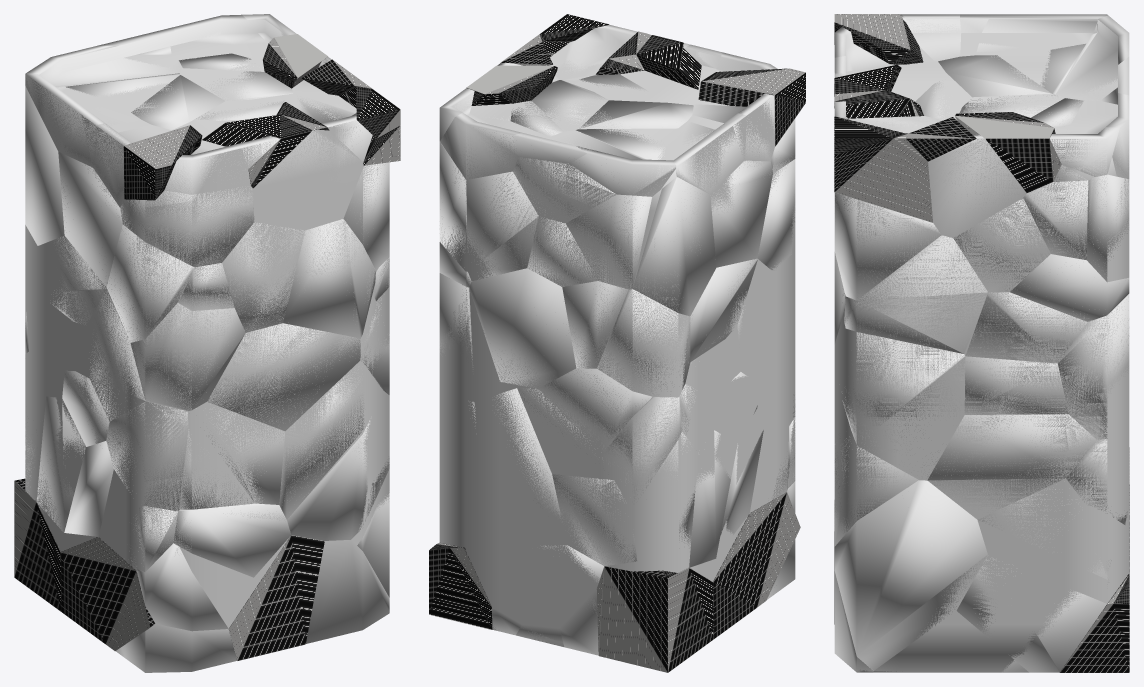
The picture shows the model from 3 angles, left to right: view 1: azimuth 30°, elevation 25°; view 2: azimuth 150°, elevation 25°; view 3: azimuth 270°, elevation 25°; orthographic projection. The views are drawn at different scales.
Parts seen in each view (by area): view 1: mqo_mesh, mqo_mesh_cell.053, mqo_mesh_cell.018, mqo_mesh_cell.041, mqo_mesh_cell.076, mqo_mesh_cell.010, mqo_mesh_cell.037, mqo_mesh_cell.058, mqo_mesh_cell.042, mqo_mesh_cell.065, mqo_mesh_cell.251, mqo_mesh_cell.082 (+39 smaller); view 2: mqo_mesh, mqo_mesh_cell.098, mqo_mesh_cell.012, mqo_mesh_cell.073, mqo_mesh_cell.007, mqo_mesh_cell.061, mqo_mesh_cell.082, mqo_mesh_cell.009, mqo_mesh_cell.071, mqo_mesh_cell.074, mqo_mesh_cell.463, mqo_mesh_cell.395 (+38 smaller); view 3: mqo_mesh, mqo_mesh_cell.044, mqo_mesh_cell.081, mqo_mesh_cell.014, mqo_mesh_cell.069, mqo_mesh_cell.013, mqo_mesh_cell.068, mqo_mesh_cell.006, mqo_mesh_cell.298, mqo_mesh_cell.050, mqo_mesh_cell.039, mqo_mesh_cell.062 (+29 smaller).
Part boxes in pixels (x1,y1,x2,y2): mqo_mesh: (25, 14, 389, 672); mqo_mesh_cell.053: (207, 323, 360, 431); mqo_mesh_cell.018: (132, 303, 245, 411); mqo_mesh_cell.041: (283, 219, 375, 338); mqo_mesh_cell.076: (253, 129, 363, 230); mqo_mesh_cell.010: (228, 535, 324, 660); mqo_mesh_cell.037: (120, 185, 254, 267); mqo_mesh_cell.058: (173, 503, 290, 577); mqo_mesh_cell.042: (106, 224, 194, 342); mqo_mesh_cell.065: (279, 369, 364, 519); mqo_mesh_cell.251: (306, 540, 389, 643); mqo_mesh_cell.082: (61, 537, 155, 650); mqo_mesh: (439, 44, 795, 646); mqo_mesh_cell.098: (596, 566, 713, 672); mqo_mesh_cell.012: (469, 268, 576, 388); mqo_mesh_cell.073: (632, 177, 716, 316); mqo_mesh_cell.007: (466, 171, 538, 278); mqo_mesh_cell.061: (597, 289, 690, 395); mqo_mesh_cell.082: (713, 492, 800, 607); mqo_mesh_cell.009: (566, 194, 651, 289); mqo_mesh_cell.071: (711, 160, 772, 267); mqo_mesh_cell.074: (539, 368, 651, 448); mqo_mesh_cell.463: (698, 68, 805, 146); mqo_mesh_cell.395: (548, 130, 675, 196); mqo_mesh: (834, 14, 1129, 672); mqo_mesh_cell.044: (834, 480, 987, 670); mqo_mesh_cell.081: (927, 414, 1096, 517); mqo_mesh_cell.014: (844, 235, 987, 353); mqo_mesh_cell.069: (842, 332, 965, 480); mqo_mesh_cell.013: (834, 193, 941, 300); mqo_mesh_cell.068: (928, 134, 1026, 237); mqo_mesh_cell.006: (1058, 294, 1129, 439); mqo_mesh_cell.298: (834, 133, 932, 222); mqo_mesh_cell.050: (965, 292, 1087, 362); mqo_mesh_cell.039: (964, 356, 1068, 414); mqo_mesh_cell.062: (956, 558, 1106, 672).
Size of the model in its own units: 5010 by 10010 by 5010.
